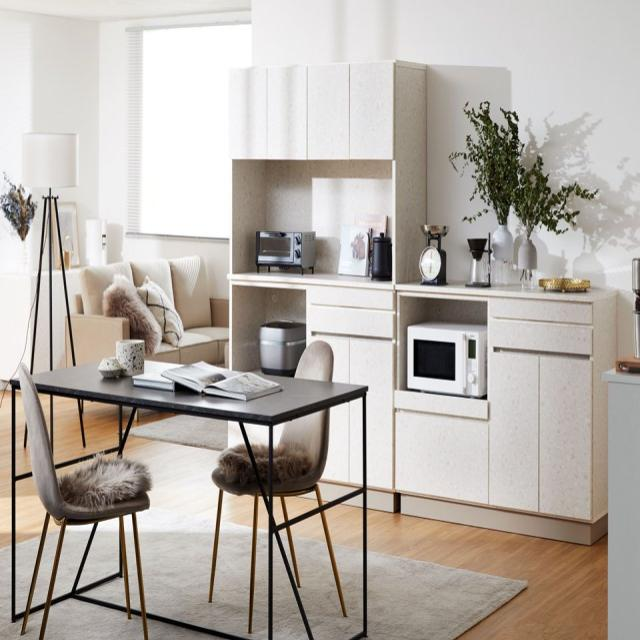white chair: (212, 372, 366, 637), (15, 356, 154, 635)
white shelf: (235, 58, 614, 392)
